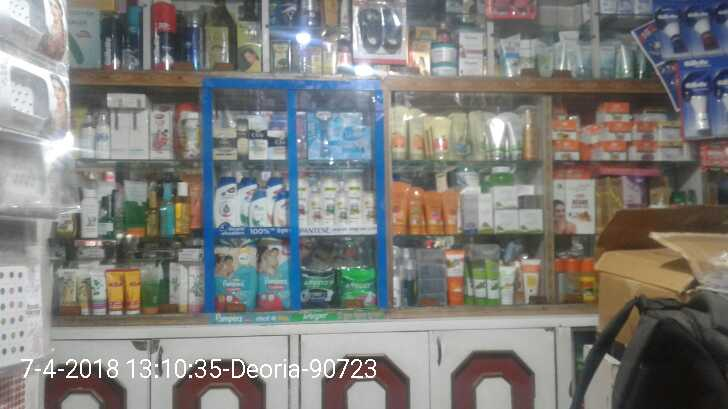gillete: (681, 81, 713, 136), (152, 1, 177, 69), (690, 3, 719, 54), (658, 6, 687, 54), (123, 6, 142, 70), (101, 16, 121, 69), (717, 80, 728, 136)
venus: (309, 108, 336, 161), (342, 124, 370, 159)
